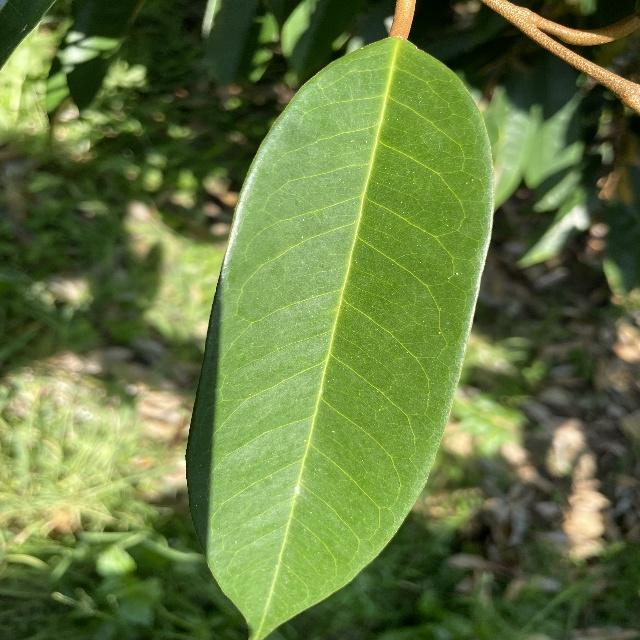No Disease: (179, 27, 503, 640)
